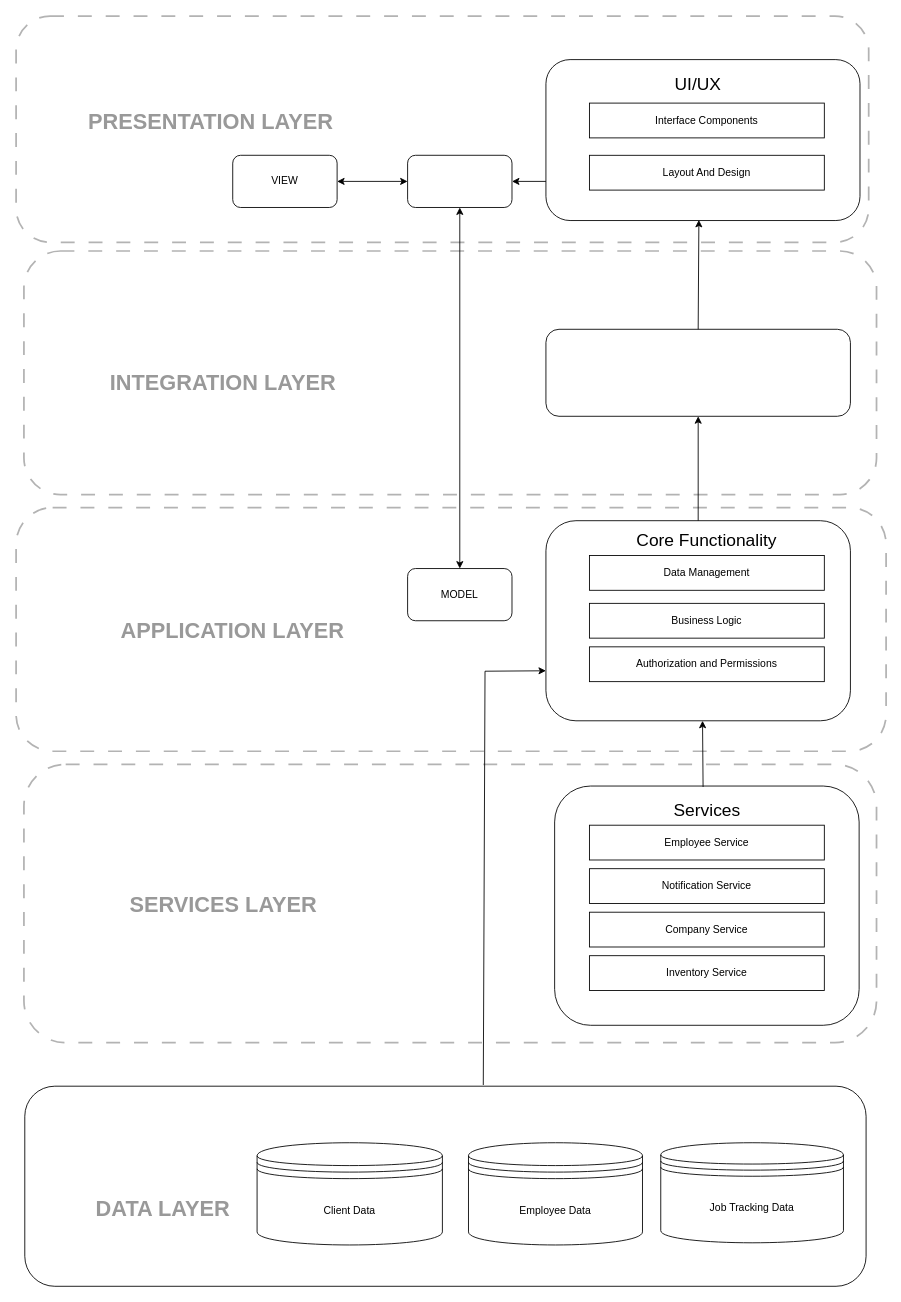
The diagram is 901 pixels wide and 1302 high, and some of its shapes have lost their labels. The shapes that lost their labels are listed below. From the top down, each one's centre as x and y in pixels, then its label:
(459,180): CONTROLLER
(697,372): API-GATE WAY
